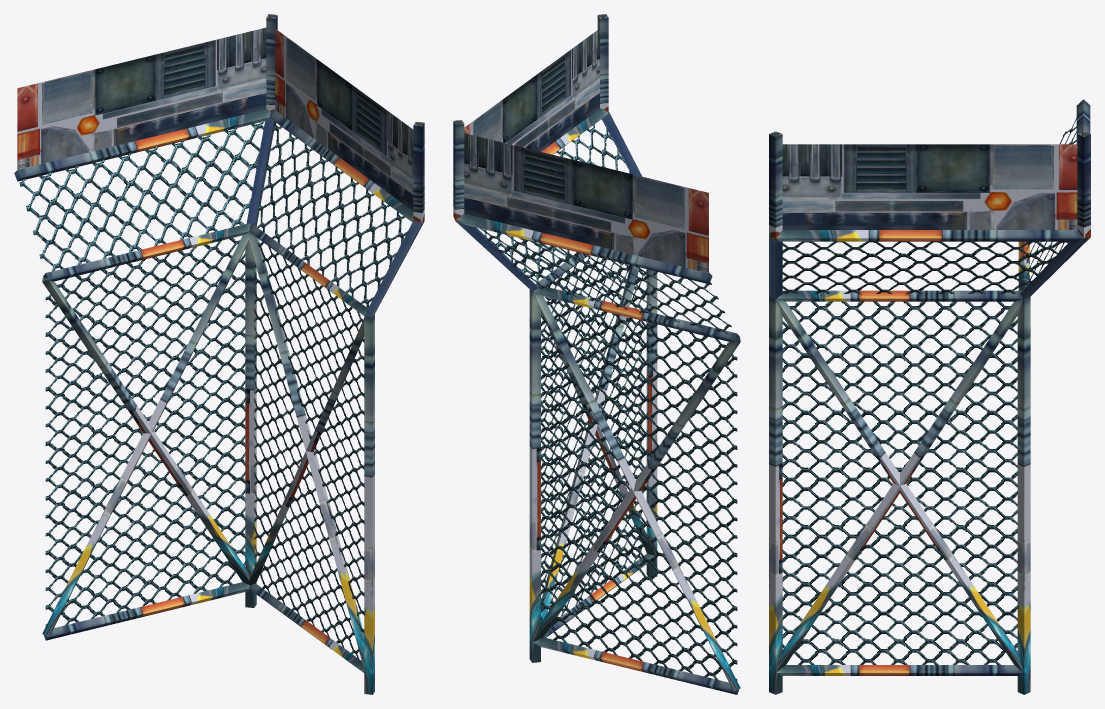
The model's file is a_SWAwire01d.glb.
3 renders of one model, left to right at view 1: azimuth 30°, elevation 25°; view 2: azimuth 150°, elevation 25°; view 3: azimuth 270°, elevation 25°, orthographic. The views are drawn at different scales.
Parts seen in each view (by area): view 1: a_SWAwire01d; view 2: a_SWAwire01d; view 3: a_SWAwire01d.
Boxes of the visible parts, left/top/right/bottom form: a_SWAwire01d: left=14, top=14, right=424, bottom=694; a_SWAwire01d: left=453, top=14, right=740, bottom=694; a_SWAwire01d: left=769, top=99, right=1090, bottom=694.
Size of the model in its own units: 1.32 by 2.66 by 1.33.
2 materials, 2 textured.
